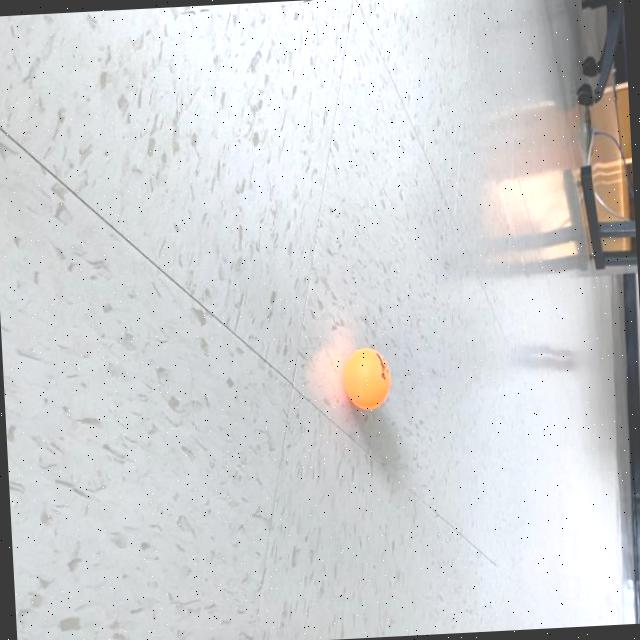ping-pong-ball: (338, 343, 395, 414)
